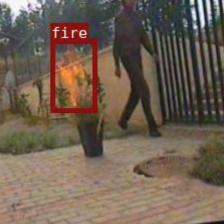fire: (50, 38, 96, 112)
